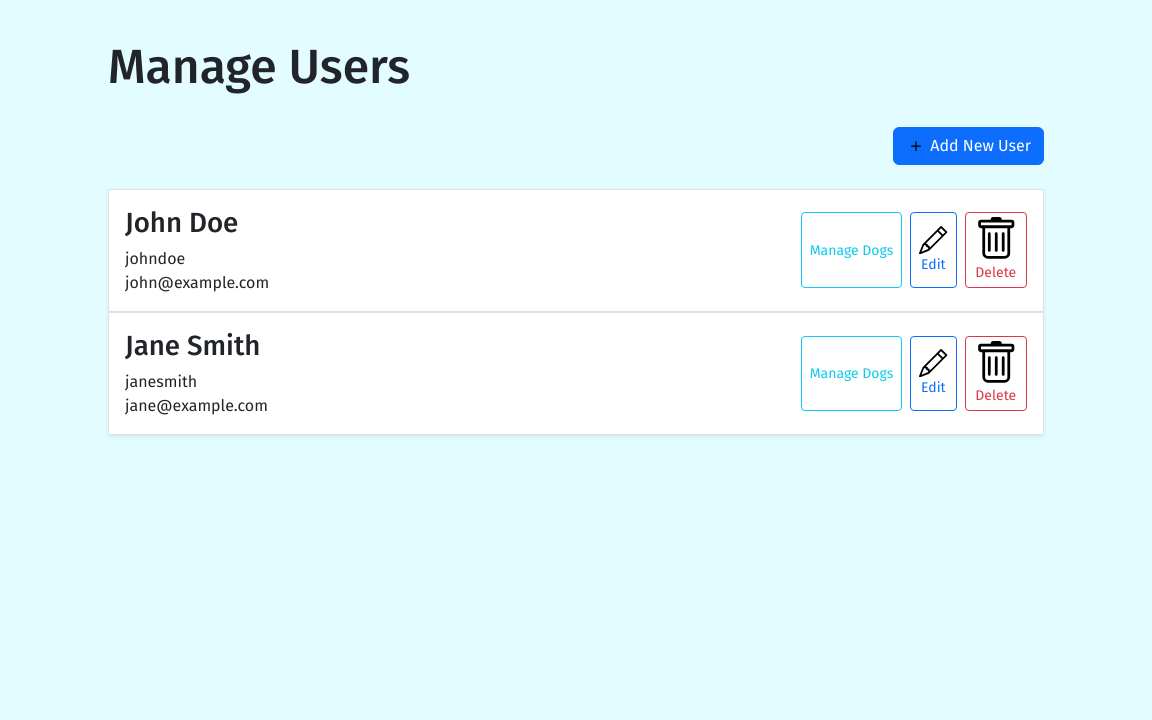
ManageUsers Component › opens edit user modal and updates a user
Check: the heading "John Doe" is shown, box [125,206,238,239]
# Find and click edit button for the first user
Click the button "Edit" in the row of "john@example.com".
click(933, 250)  # box [910,212,956,288]
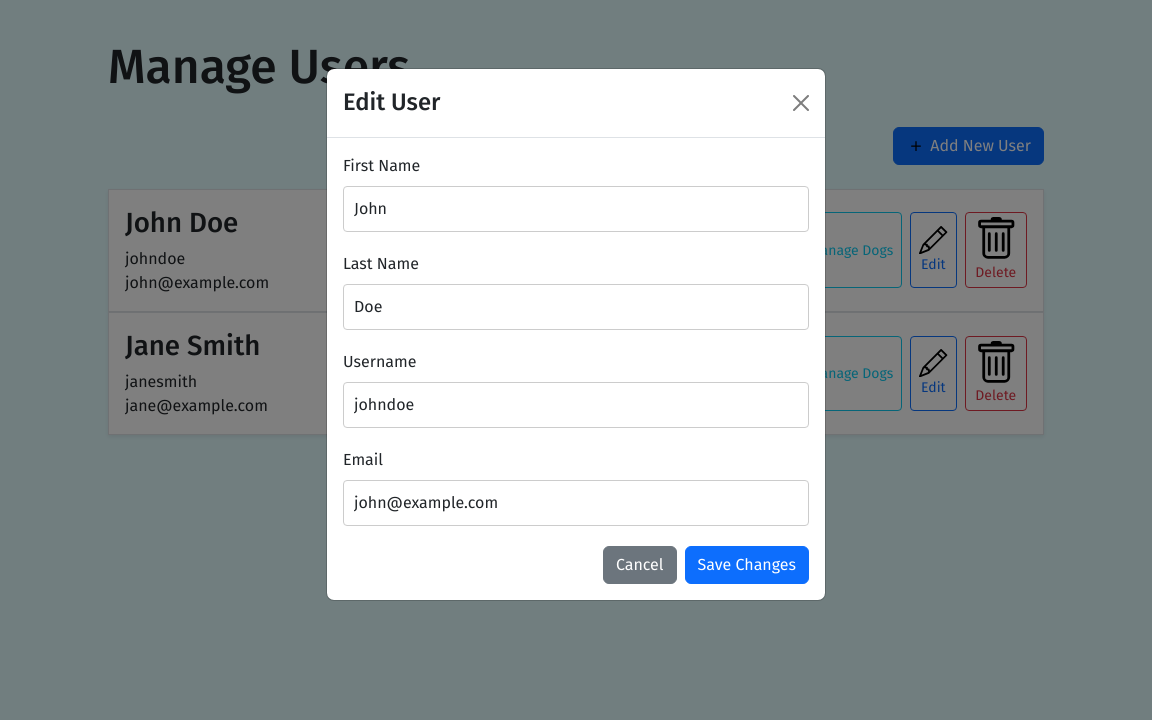
Check: the field showing "John" is shown
Check: the field showing "Doe" is shown, box [343,284,809,330]
# Update the first name
Replace the text in the field labelled "First Name" with "Johnny" at (576, 209), box [343,186,809,232]
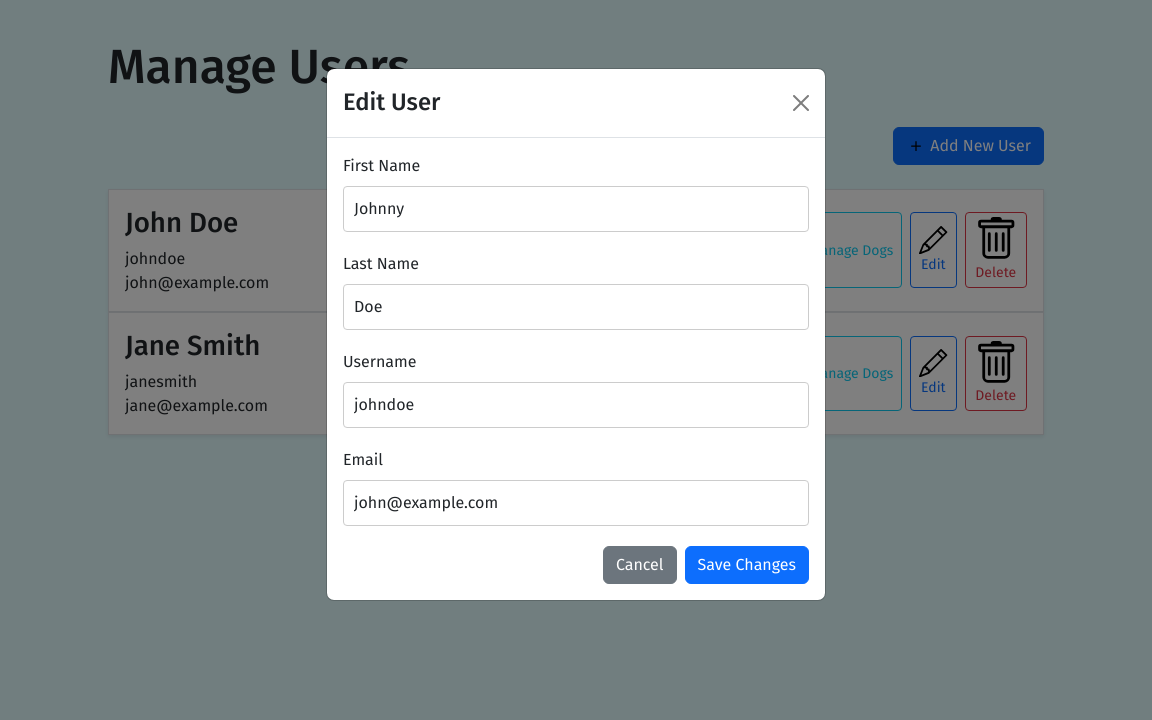
# Submit the form
Click the button "Save Changes".
click(747, 565)  # box [684,546,809,584]
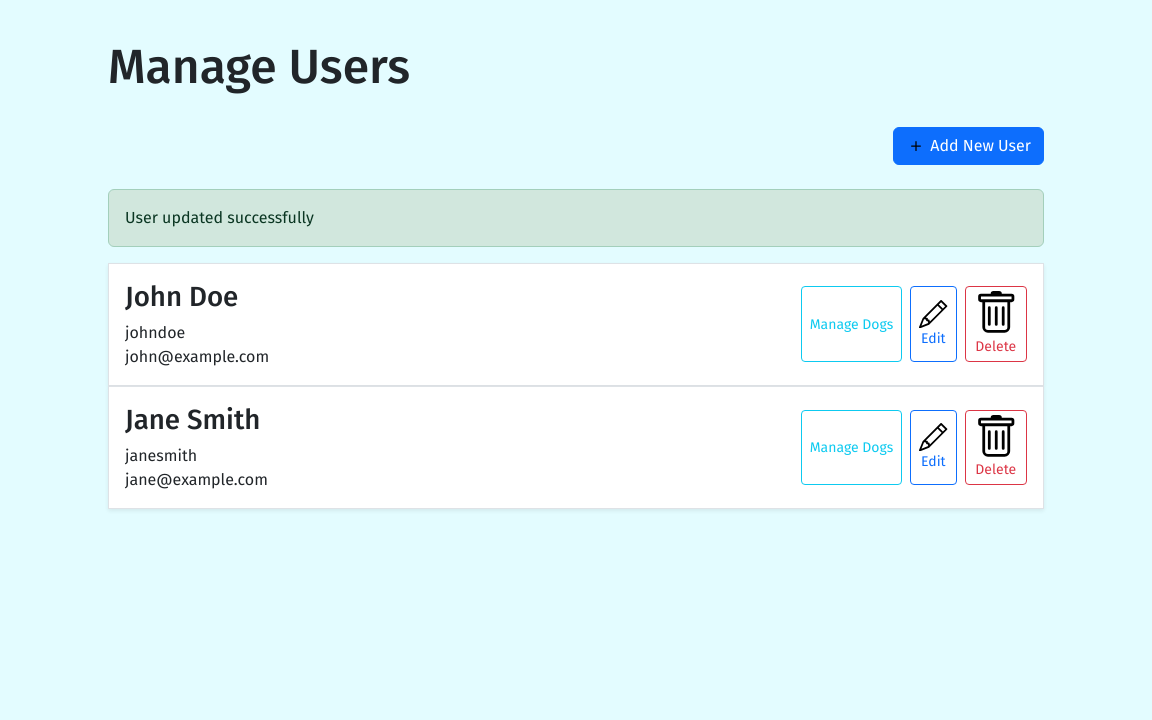
Check: the text "User updated successfully" is shown, box [108,189,1044,247]
